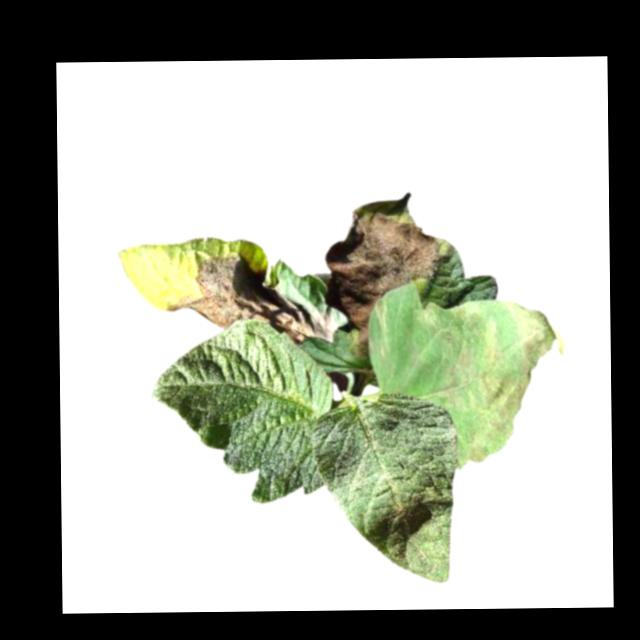Late_blight: (435, 297, 569, 470), (323, 206, 446, 360), (165, 252, 338, 346)
